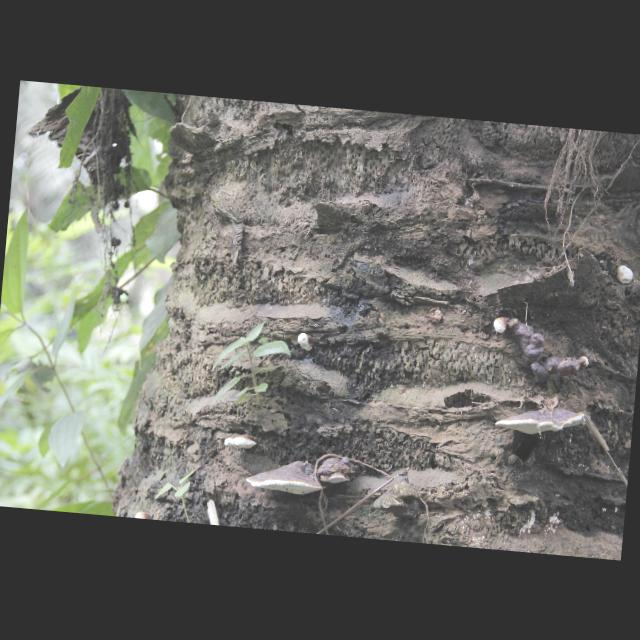ganoderma: (506, 319, 582, 387), (495, 403, 588, 441), (245, 457, 327, 498), (314, 455, 362, 488), (224, 433, 260, 452)
primordium: (616, 266, 635, 285), (297, 334, 315, 353), (494, 317, 511, 335), (580, 357, 590, 370)
